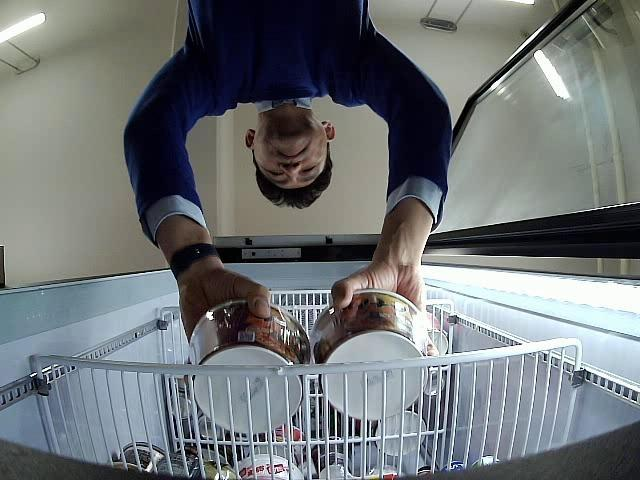05_nuguri_L: (188, 300, 310, 434), (310, 290, 428, 420)
